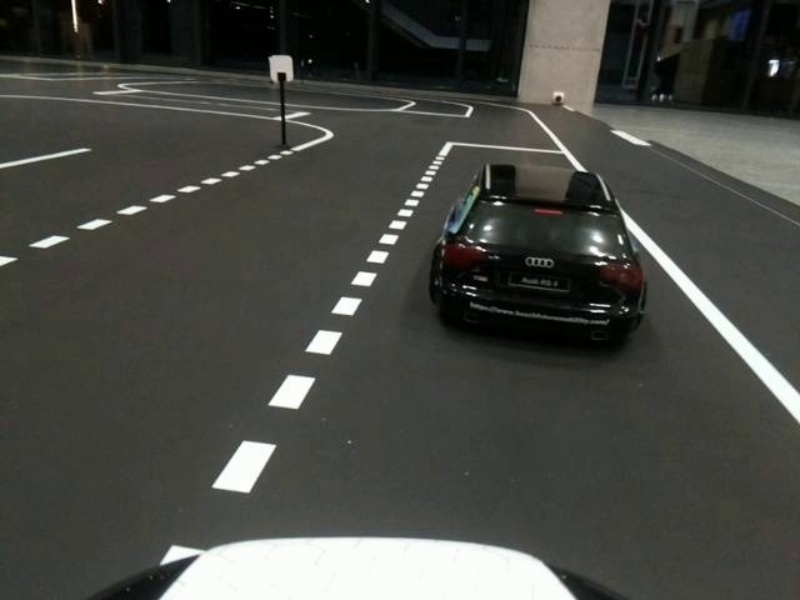car: (429, 157, 653, 351)
